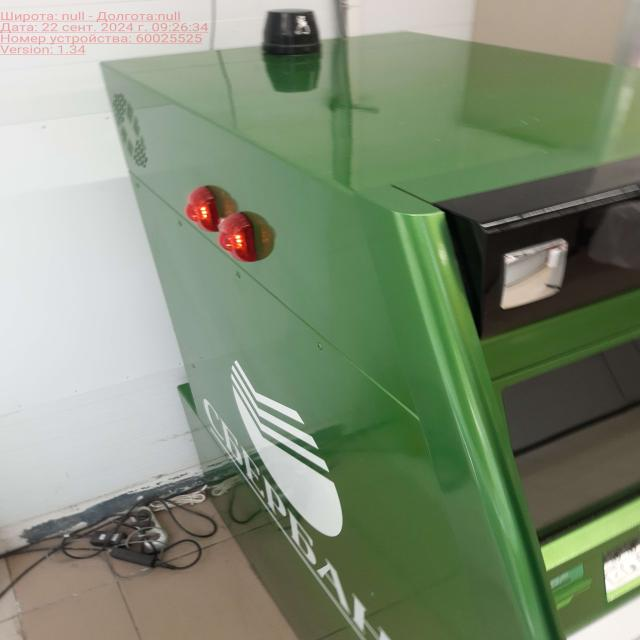bank: (96, 30, 639, 640)
